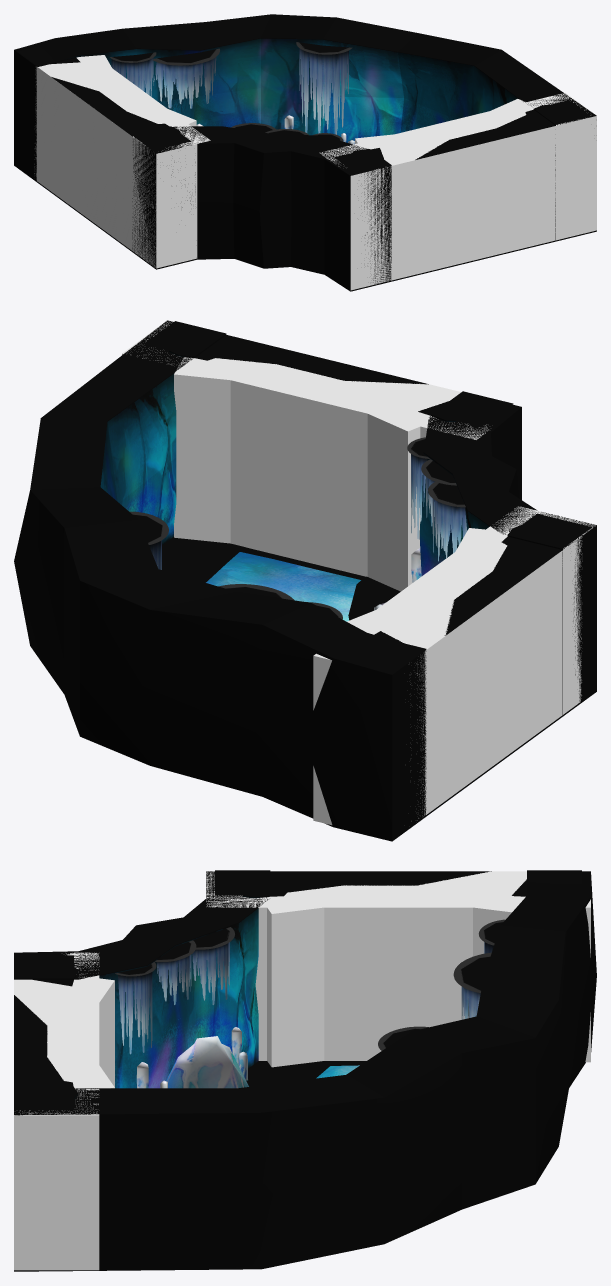
The model's file is Dungeon_072_RoadL_002.fbx.
The picture shows the model from 3 angles, top to bottom: view 1: azimuth 30°, elevation 25°; view 2: azimuth 150°, elevation 25°; view 3: azimuth 270°, elevation 25°; orthographic projection. The views are drawn at different scales.
Parts seen in each view (by area): view 1: Dun_072_RoadL_002_wall, DoorWay_NavMask (3) (×2), DoorWay_NavMask (1) (×2), Dun_072_OB_Icicle, Dun_072_Door_002 (×2), DoorWay_NavMask (2) (×2), DoorWay_NavMask (4) (×2); view 2: Dun_072_RoadL_002_wall, DoorWay_NavMask (3) (×2), DoorWay_NavMask (1) (×2), Dun_072_Door_002 (×2), DoorWay_NavMask (2) (×2), DoorWay_NavMask (4), Dun_072_OB_Icicle, Dun_072_RoadL_002_ground, Dun_072_RoadL_002_shadow, Dun_072_Door_002_shadow; view 3: Dun_072_RoadL_002_wall, DoorWay_NavMask (3) (×2), Dun_072_Door_002 (×2), DoorWay_NavMask (4) (×2), Dun_072_OB_Icicle, DoorWay_NavMask (2) (×2), Dun_072_OB_Stone02, DoorWay_NavMask (1), Dun_072_RoadL_002_shadow, Dun_072_OB_Ice_crystals01.
Part boxes in pixels (x1=…): Dun_072_RoadL_002_wall: x1=14, y1=14, x2=596, y2=291; DoorWay_NavMask (3) (×2): x1=34, y1=55, x2=596, y2=290; DoorWay_NavMask (1) (×2): x1=37, y1=58, x2=556, y2=279; Dun_072_OB_Icicle: x1=109, y1=42, x2=352, y2=141; Dun_072_Door_002 (×2): x1=18, y1=46, x2=590, y2=281; DoorWay_NavMask (2) (×2): x1=78, y1=55, x2=423, y2=149; DoorWay_NavMask (4) (×2): x1=129, y1=99, x2=537, y2=126; Dun_072_RoadL_002_wall: x1=14, y1=320, x2=596, y2=841; DoorWay_NavMask (3) (×2): x1=122, y1=321, x2=595, y2=825; DoorWay_NavMask (1) (×2): x1=190, y1=358, x2=563, y2=814; Dun_072_Door_002 (×2): x1=143, y1=321, x2=591, y2=816; DoorWay_NavMask (2) (×2): x1=345, y1=390, x2=438, y2=634; DoorWay_NavMask (4): x1=174, y1=357, x2=272, y2=543; Dun_072_OB_Icicle: x1=129, y1=437, x2=466, y2=619; Dun_072_RoadL_002_ground: x1=206, y1=552, x2=360, y2=621; Dun_072_RoadL_002_shadow: x1=162, y1=537, x2=400, y2=620; Dun_072_Door_002_shadow: x1=240, y1=547, x2=364, y2=579; Dun_072_RoadL_002_wall: x1=14, y1=871, x2=596, y2=1271; DoorWay_NavMask (3) (×2): x1=14, y1=871, x2=590, y2=1270; Dun_072_Door_002 (×2): x1=14, y1=870, x2=581, y2=1110; DoorWay_NavMask (4) (×2): x1=51, y1=886, x2=353, y2=1088; Dun_072_OB_Icicle: x1=115, y1=919, x2=505, y2=1054; DoorWay_NavMask (2) (×2): x1=60, y1=886, x2=524, y2=1086; Dun_072_OB_Stone02: x1=166, y1=1036, x2=248, y2=1088; DoorWay_NavMask (1): x1=269, y1=871, x2=526, y2=900; Dun_072_RoadL_002_shadow: x1=246, y1=1061, x2=335, y2=1086; Dun_072_OB_Ice_crystals01: x1=136, y1=1027, x2=247, y2=1088.
Size of what is drawn, in the model's own units: 6.75 by 2.08 by 6.82.
